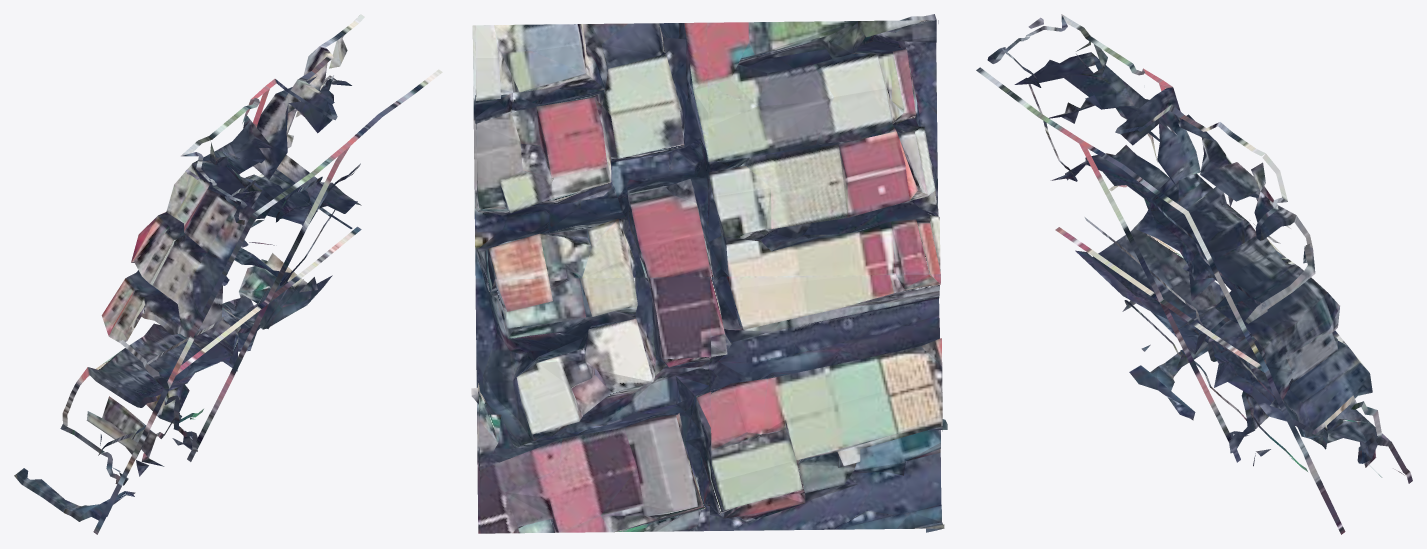
3 renders of one model, left to right at view 1: azimuth 30°, elevation 25°; view 2: azimuth 150°, elevation 25°; view 3: azimuth 270°, elevation 25°, orthographic. The views are drawn at different scales.
Size of the model in its own units: 84.6 by 76.94 by 75.8.
2 materials, 2 textured.
